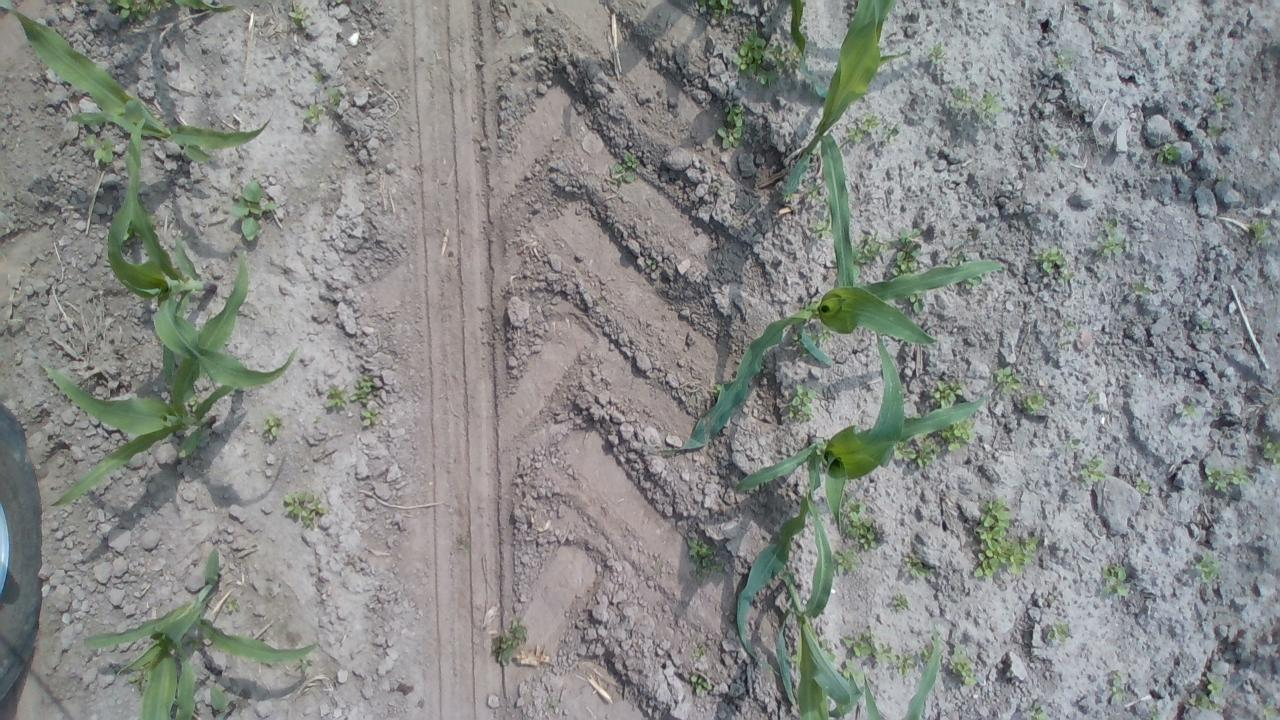Maize: (658, 134, 1001, 453), (736, 333, 988, 666), (66, 99, 300, 390), (38, 252, 250, 509), (1, 0, 272, 163), (78, 545, 322, 720), (785, 0, 912, 209), (776, 489, 864, 720), (901, 617, 942, 720), (788, 0, 828, 96), (862, 673, 882, 720)
Weeds: (973, 494, 1039, 577), (734, 27, 796, 85), (227, 176, 280, 243), (491, 614, 532, 668), (842, 494, 879, 550), (1200, 461, 1254, 496), (282, 488, 327, 528), (686, 535, 722, 585), (888, 226, 923, 273), (715, 98, 745, 152), (946, 641, 980, 687), (1092, 218, 1130, 258), (940, 417, 980, 454), (894, 440, 942, 470), (786, 382, 820, 424), (104, 0, 162, 22), (844, 112, 880, 147), (853, 231, 888, 266), (81, 132, 115, 164), (606, 151, 637, 185), (933, 376, 964, 408), (346, 372, 376, 405), (1100, 563, 1130, 596), (992, 364, 1024, 394), (974, 90, 1002, 124), (1035, 245, 1065, 275), (1195, 550, 1220, 584), (1080, 454, 1107, 484), (1249, 216, 1274, 248), (841, 634, 874, 658), (322, 382, 349, 411), (1154, 140, 1184, 166), (834, 548, 860, 576), (261, 411, 284, 442), (901, 554, 929, 578), (810, 212, 834, 240), (698, 0, 734, 18), (1262, 434, 1280, 468), (1107, 666, 1125, 700), (300, 102, 324, 126), (1188, 694, 1224, 710), (1021, 390, 1046, 413), (840, 660, 866, 682), (690, 671, 713, 695), (286, 3, 308, 28), (950, 85, 971, 111), (1046, 622, 1072, 642), (927, 40, 947, 66), (894, 652, 916, 675), (1026, 699, 1050, 720), (324, 82, 344, 107), (802, 182, 824, 204), (1205, 670, 1223, 696), (882, 120, 901, 144), (1212, 90, 1234, 110), (1132, 280, 1156, 298), (871, 640, 892, 660), (890, 593, 911, 612), (1054, 48, 1072, 70), (358, 406, 378, 425), (822, 638, 836, 664), (1182, 399, 1198, 421), (909, 292, 923, 314), (1206, 122, 1224, 139), (298, 656, 314, 674), (224, 600, 242, 616), (1046, 140, 1060, 160), (812, 330, 832, 344), (1132, 477, 1148, 494), (455, 534, 470, 552), (966, 276, 982, 292), (1064, 438, 1080, 454), (128, 674, 144, 689), (1146, 704, 1161, 720), (1264, 706, 1280, 720), (946, 252, 964, 264), (691, 642, 704, 658), (969, 224, 980, 242), (1058, 337, 1074, 349), (1088, 389, 1100, 404), (312, 70, 324, 84), (1062, 272, 1078, 282), (188, 396, 198, 412), (1202, 319, 1214, 332), (923, 648, 936, 660), (591, 294, 605, 305), (1066, 320, 1076, 333), (712, 183, 722, 196), (790, 332, 799, 346), (546, 696, 556, 708), (1210, 405, 1220, 417), (646, 258, 656, 269), (714, 384, 722, 397), (782, 194, 793, 202), (814, 146, 822, 156), (1217, 176, 1226, 182), (866, 624, 871, 632)
